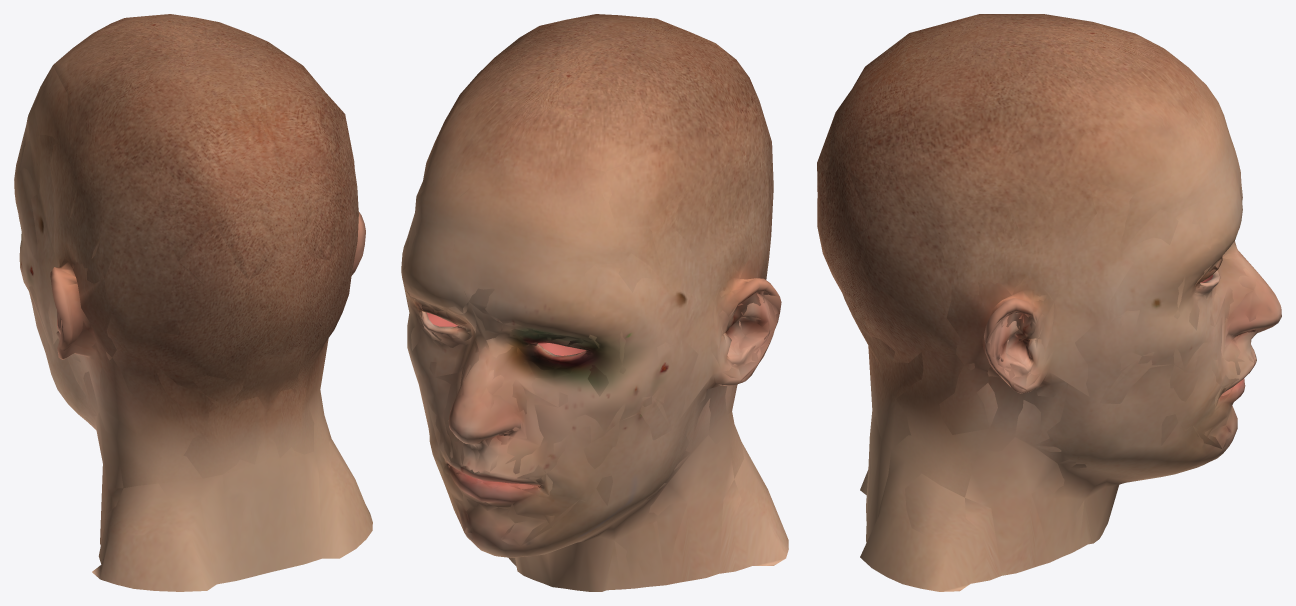
File: us-male-head.gltf
3 views of the same model, side by side, from view 1: azimuth 30°, elevation 25°; view 2: azimuth 150°, elevation 25°; view 3: azimuth 270°, elevation 25° (orthographic). The views are drawn at different scales.
Visible parts, largest first — view 1: head-near, head-far; view 2: head-near, head-far; view 3: head-near, head-far.
Part boxes in pixels (x1=…): head-near: x1=14, y1=14, x2=372, y2=591; head-far: x1=16, y1=20, x2=357, y2=584; head-near: x1=401, y1=14, x2=788, y2=591; head-far: x1=403, y1=21, x2=781, y2=589; head-near: x1=817, y1=14, x2=1281, y2=591; head-far: x1=817, y1=14, x2=1267, y2=575.
Size of the model in its own units: 0.1767 by 0.258 by 0.2209.
1 material, 1 textured.
